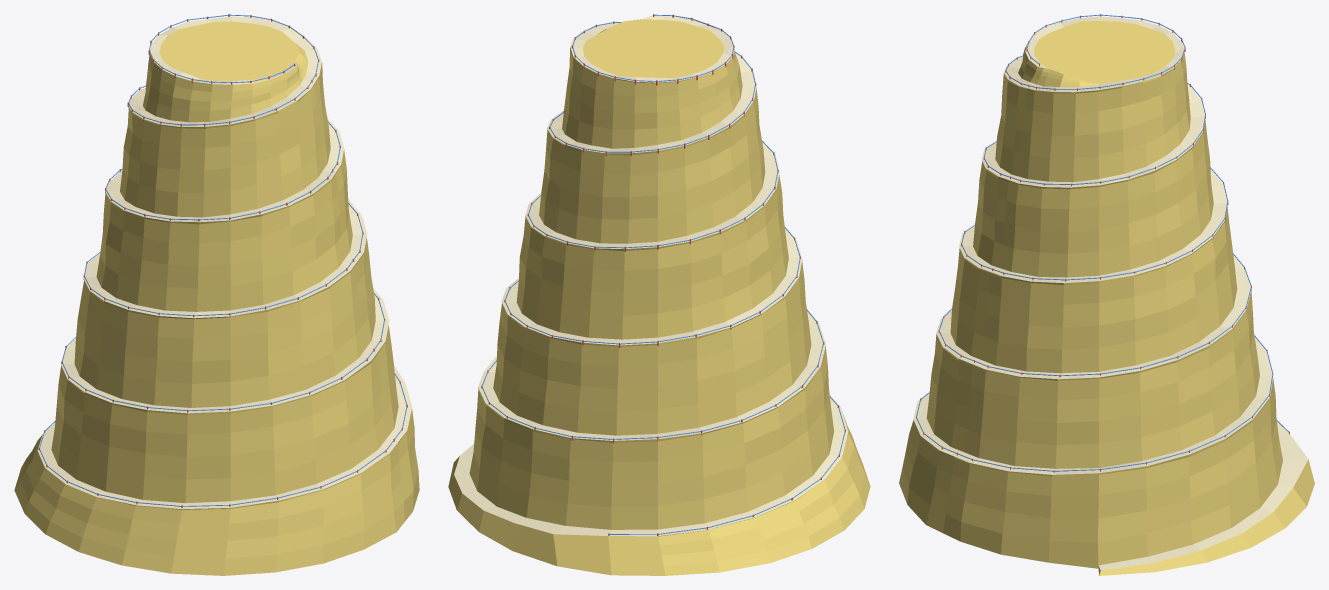
Rendered from MountainShoptop.fbx.
The picture shows the model from 3 angles, left to right: view 1: azimuth 30°, elevation 25°; view 2: azimuth 150°, elevation 25°; view 3: azimuth 270°, elevation 25°; orthographic projection.
Parts seen in each view (by area): view 1: mountain, MountainCurve2.001, MountainCurve2; view 2: mountain, MountainCurve2.001, MountainCurve2; view 3: mountain, MountainCurve2.001.
Part boxes in pixels (x1,y1,x2,y2): mountain: (14,16,419,575); MountainCurve2.001: (39,14,407,506); MountainCurve2: (38,14,407,507); mountain: (448,15,870,575); MountainCurve2.001: (482,14,845,534); MountainCurve2: (481,14,845,535); mountain: (899,16,1314,575); MountainCurve2.001: (916,14,1288,471).
Bounding box in the file's own units: 5735 × 6583 × 5623.
